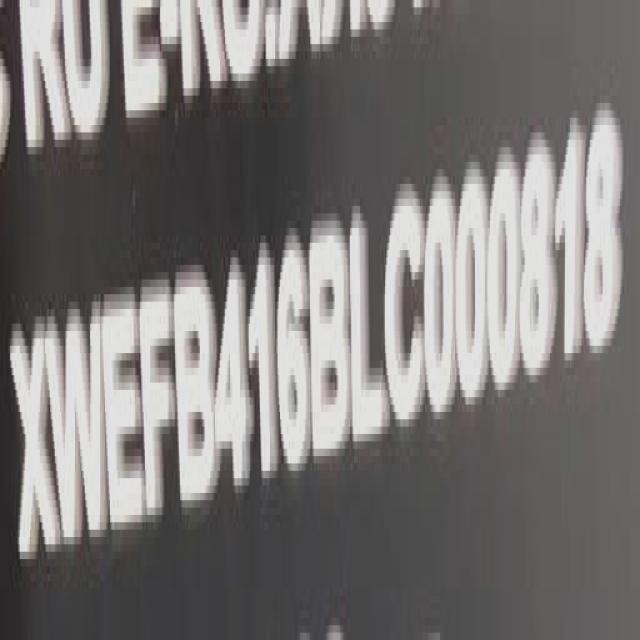0: (488, 142, 522, 395), (424, 170, 457, 419), (457, 162, 490, 408)
1: (553, 115, 582, 375), (252, 239, 277, 494)
4: (214, 250, 250, 500)
6: (277, 230, 311, 482)
8: (586, 101, 626, 357), (521, 127, 557, 386)
B: (179, 262, 219, 517), (310, 212, 348, 467)
C: (388, 186, 428, 437)
E: (105, 299, 146, 540)
F: (141, 274, 181, 534)
L: (350, 196, 388, 450)
W: (48, 301, 109, 560)
X: (12, 319, 54, 571)
